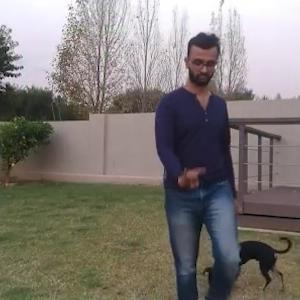takeoff-hand: (176, 161, 204, 196)
